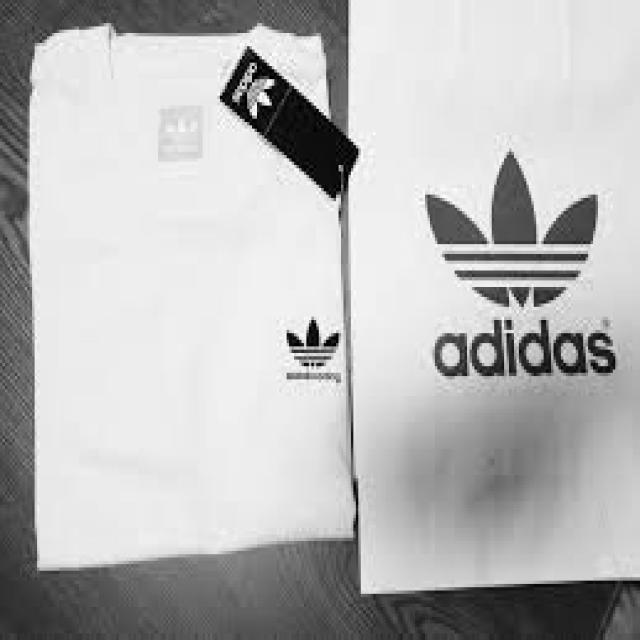Adidas: (408, 139, 606, 324), (282, 310, 346, 372), (240, 60, 284, 136), (163, 109, 208, 152)
